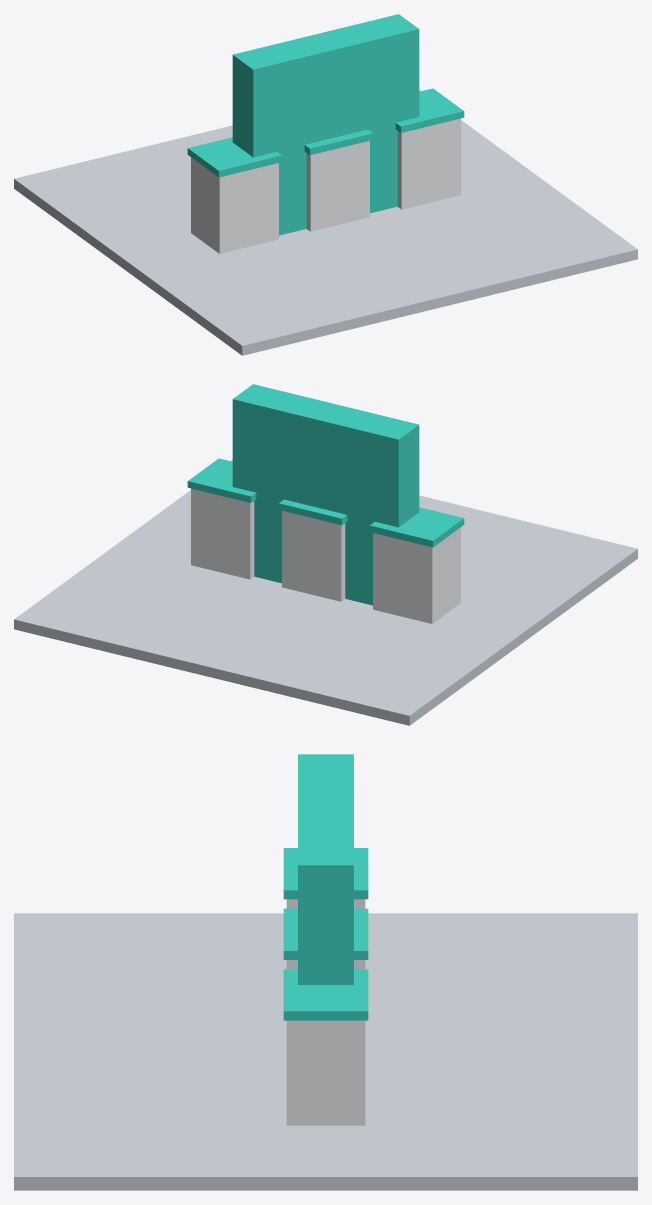
The picture shows the model from 3 angles, top to bottom: view 1: azimuth 30°, elevation 25°; view 2: azimuth 150°, elevation 25°; view 3: azimuth 270°, elevation 25°; orthographic projection. The views are drawn at different scales.
Visible parts, largest first — view 1: Exhibition Booth Concept; view 2: Exhibition Booth Concept; view 3: Exhibition Booth Concept.
Boxes of the visible parts, x1,y1,x2,y2 form: Exhibition Booth Concept: [14, 14, 637, 355]; Exhibition Booth Concept: [14, 384, 637, 725]; Exhibition Booth Concept: [14, 754, 637, 1190].
Bounding box in the file's own units: 5 × 2.2 × 5.
